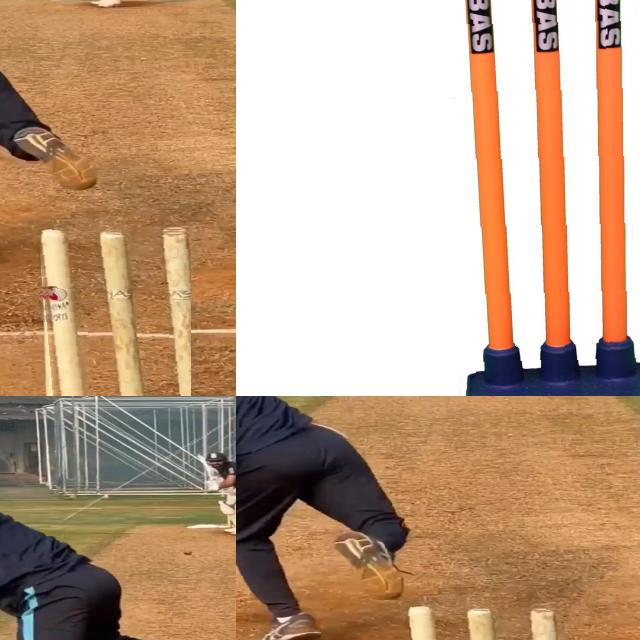Cricket ball: (38, 226, 191, 396), (397, 598, 563, 640), (182, 550, 192, 556)
Stumps: (446, 0, 640, 396)
